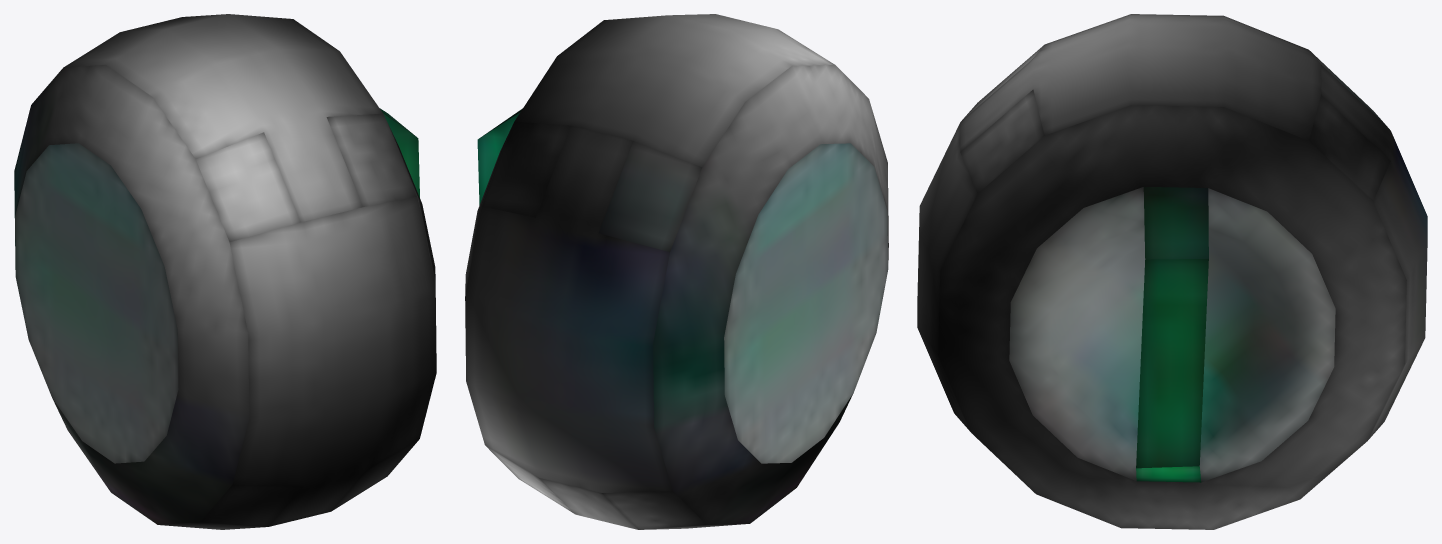
The model's file is frontleft2.obj.
3 renders of one model, left to right at view 1: azimuth 30°, elevation 25°; view 2: azimuth 150°, elevation 25°; view 3: azimuth 270°, elevation 25°, orthographic.
Visible parts, largest first — view 1: Object014; view 2: Object014; view 3: Object014.
Part boxes in pixels (x1=…): Object014: x1=14, y1=14, x2=436, y2=529; Object014: x1=465, y1=14, x2=888, y2=529; Object014: x1=917, y1=14, x2=1427, y2=529.
Size of the model in its own units: 5.4 by 7.73 by 7.73.
1 material, 1 textured.
